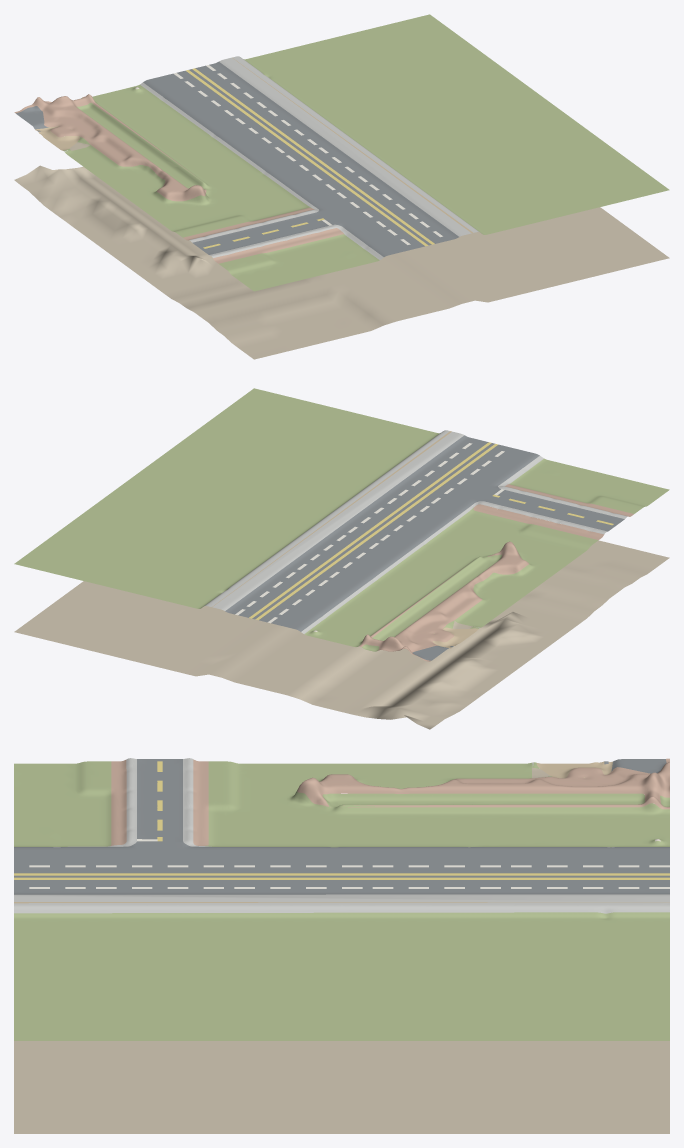
3 views of the same model, one above another, from view 1: azimuth 30°, elevation 25°; view 2: azimuth 150°, elevation 25°; view 3: azimuth 270°, elevation 25° (orthographic). The views are drawn at different scales.
Parts seen in each view (by area): view 1: s_-4_-5__grass, s_-4_-5__soil, s_-4_-5__asphalt, s_-4_-5__stone_paving, s_-4_-5__brick_paving, s_-4_-5__yellow_marking, s_-4_-5__white_marking, s_-4_-5__timber_deck; view 2: s_-4_-5__grass, s_-4_-5__soil, s_-4_-5__asphalt, s_-4_-5__stone_paving, s_-4_-5__brick_paving, s_-4_-5__yellow_marking, s_-4_-5__white_marking, s_-4_-5__timber_deck; view 3: s_-4_-5__grass, s_-4_-5__soil, s_-4_-5__asphalt, s_-4_-5__stone_paving, s_-4_-5__brick_paving, s_-4_-5__yellow_marking, s_-4_-5__white_marking, s_-4_-5__timber_deck.
Part boxes in pixels (bbox=[...]): s_-4_-5__grass: bbox=[63, 14, 669, 291]; s_-4_-5__soil: bbox=[14, 142, 669, 359]; s_-4_-5__asphalt: bbox=[16, 61, 458, 256]; s_-4_-5__stone_paving: bbox=[64, 56, 478, 259]; s_-4_-5__brick_paving: bbox=[14, 94, 343, 263]; s_-4_-5__yellow_marking: bbox=[186, 68, 434, 248]; s_-4_-5__white_marking: bbox=[173, 65, 442, 244]; s_-4_-5__timber_deck: bbox=[35, 57, 473, 233]; s_-4_-5__grass: bbox=[14, 388, 669, 651]; s_-4_-5__soil: bbox=[14, 540, 669, 729]; s_-4_-5__asphalt: bbox=[225, 435, 624, 660]; s_-4_-5__stone_paving: bbox=[205, 430, 627, 633]; s_-4_-5__brick_paving: bbox=[359, 484, 633, 661]; s_-4_-5__yellow_marking: bbox=[249, 442, 613, 620]; s_-4_-5__white_marking: bbox=[235, 443, 504, 623]; s_-4_-5__timber_deck: bbox=[212, 431, 478, 648]; s_-4_-5__grass: bbox=[14, 761, 669, 1040]; s_-4_-5__soil: bbox=[14, 767, 669, 1133]; s_-4_-5__asphalt: bbox=[14, 759, 669, 894]; s_-4_-5__stone_paving: bbox=[14, 758, 669, 913]; s_-4_-5__brick_paving: bbox=[111, 758, 669, 845]; s_-4_-5__yellow_marking: bbox=[14, 761, 669, 879]; s_-4_-5__white_marking: bbox=[29, 839, 669, 888]; s_-4_-5__timber_deck: bbox=[14, 761, 669, 903].
Bounding box in the file's own units: 128 × 24.02 × 128.
